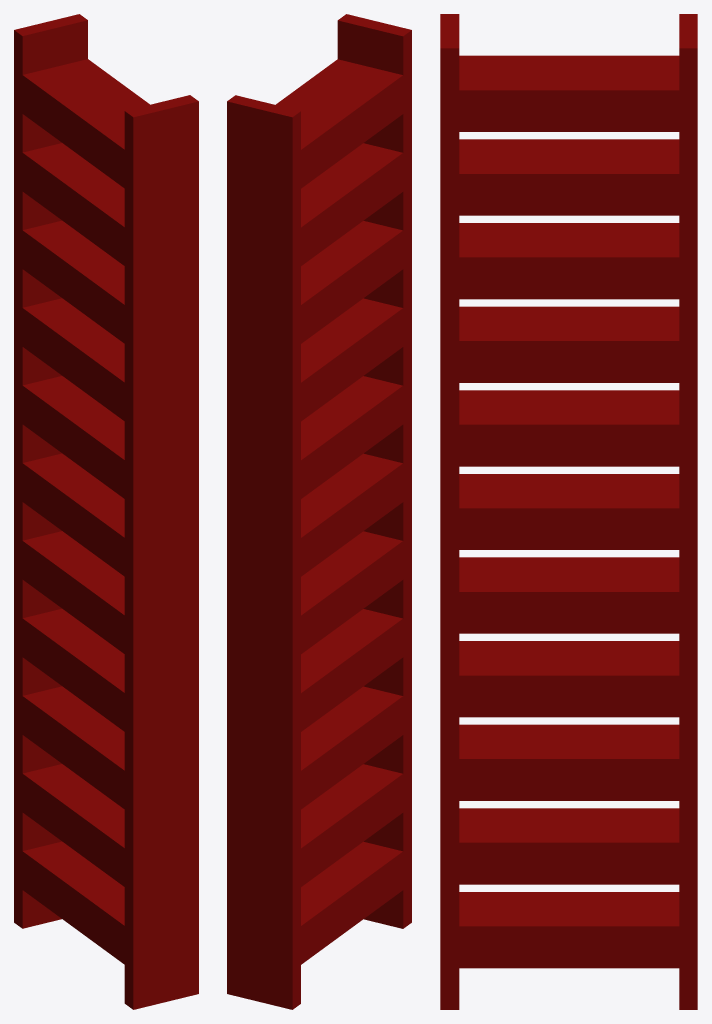
The model's file is Escalera.fbx.
The picture shows the model from 3 angles, left to right: view 1: azimuth 30°, elevation 25°; view 2: azimuth 150°, elevation 25°; view 3: azimuth 270°, elevation 25°; orthographic projection. The views are drawn at different scales.
Parts seen in each view (by area): view 1: Escalera_Rojo; view 2: Escalera_Rojo; view 3: Escalera_Rojo.
Part boxes in pixels (left/top/right/bottom): Escalera_Rojo: left=14, top=14, right=198, bottom=1009; Escalera_Rojo: left=227, top=14, right=411, bottom=1009; Escalera_Rojo: left=440, top=14, right=697, bottom=1009.
Size of the model in its own units: 0.7211 by 9.39 by 2.28.
